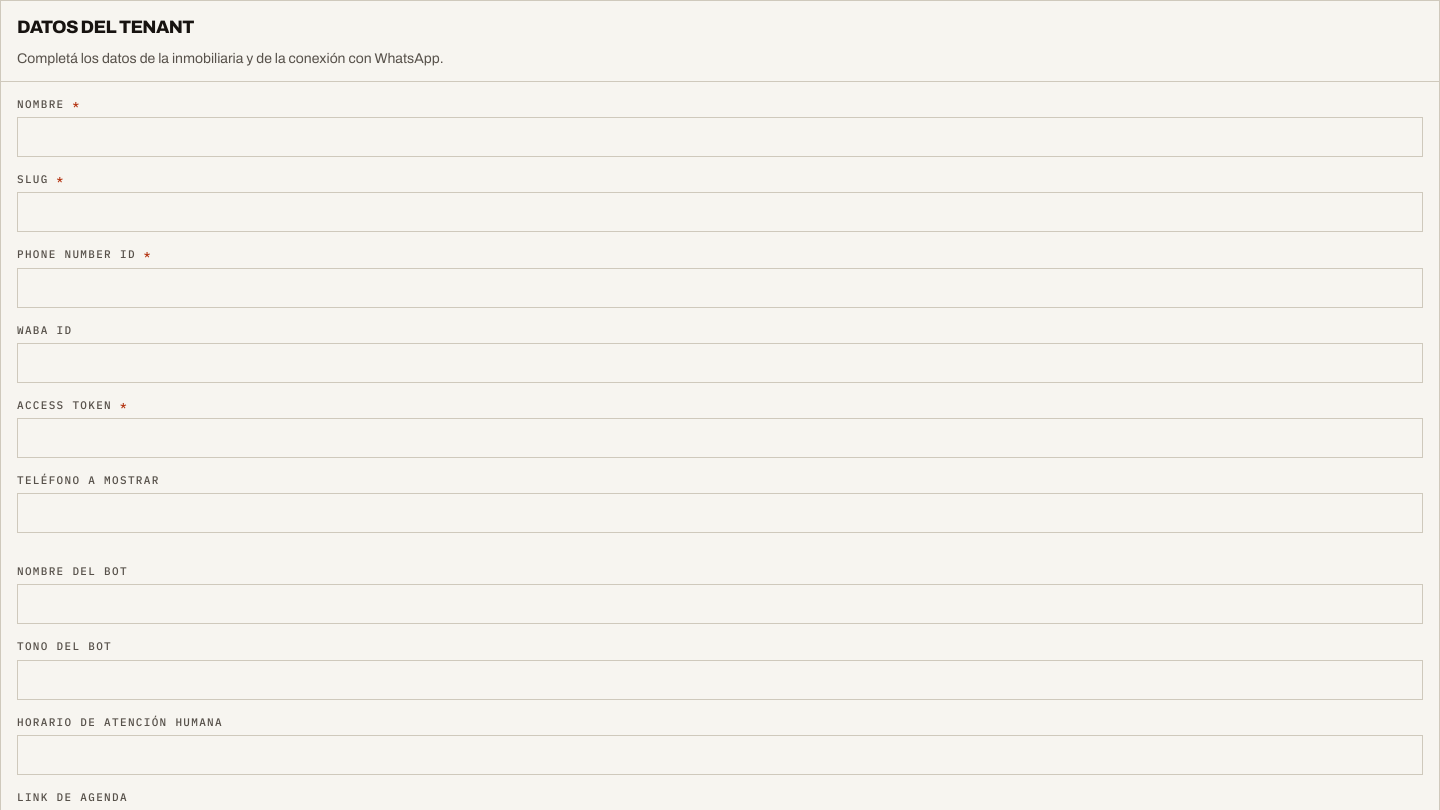
Test case: TenantCreateForm › ConflictError de slug se muestra como error de campo, sin excepción no manejada
Type "Inmobiliaria Test" into the field labelled "Nombre".
click(720, 137); type("Inmobiliaria Test")  # box x1=17 y1=117 x2=1423 y2=157
Type "inmo-test" into the field labelled "Slug".
click(720, 212); type("inmo-test")  # box x1=17 y1=192 x2=1423 y2=232
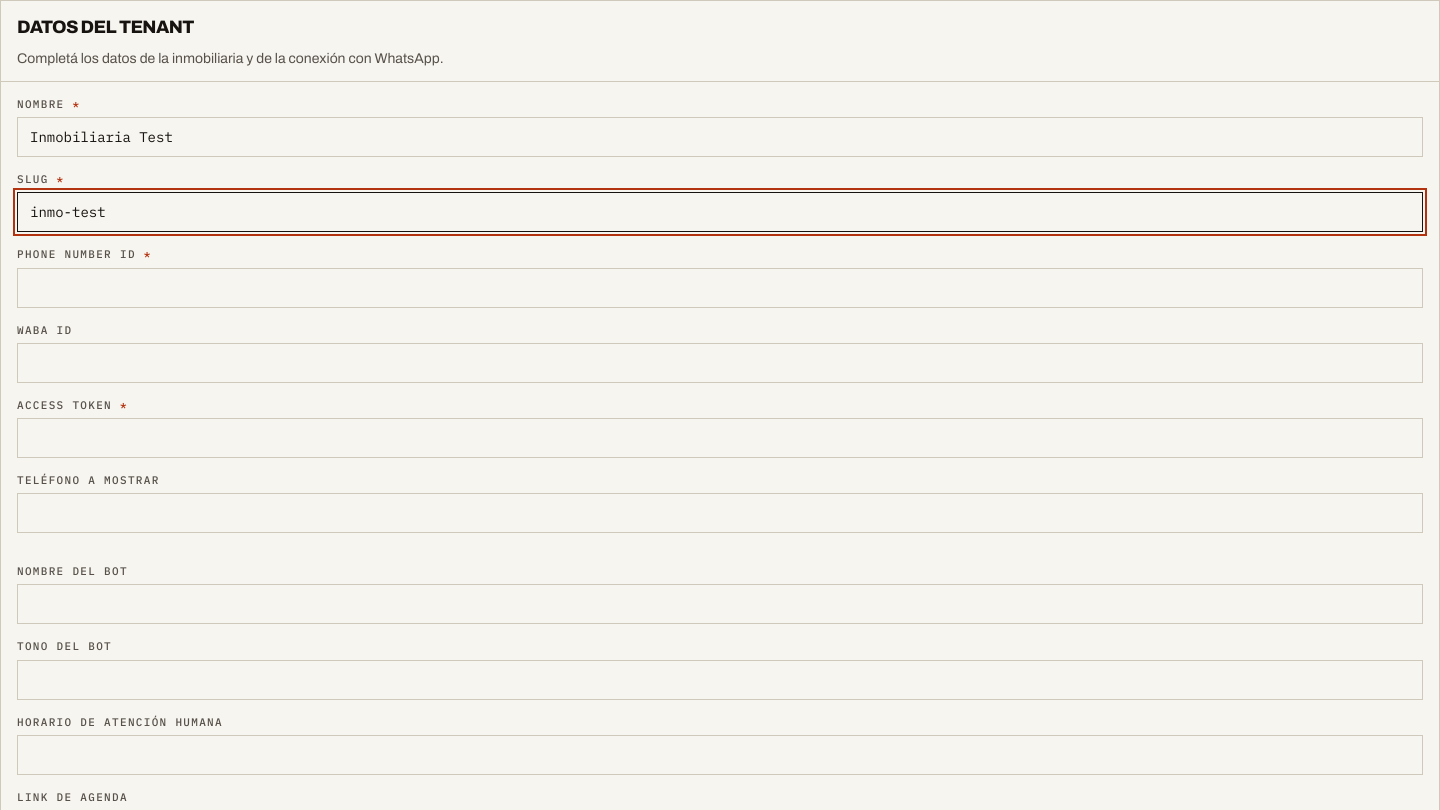
Type "123456789" into the field labelled "Phone Number ID".
click(720, 288); type("123456789")  # box x1=17 y1=268 x2=1423 y2=308
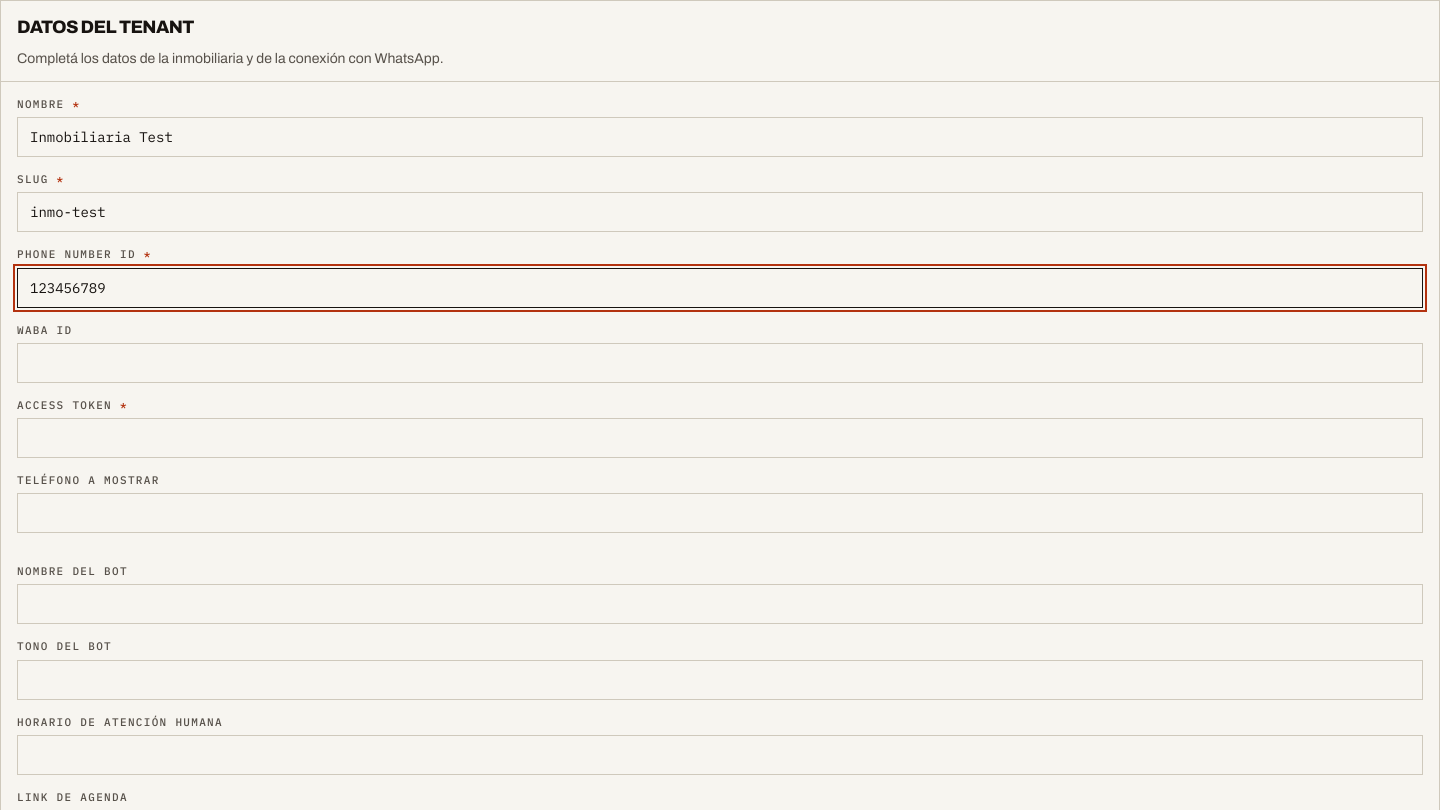
Type "secret-token" into the password field labelled "Access token".
click(720, 438); type("secret-token")  # box x1=17 y1=418 x2=1423 y2=458
(page scrolled)
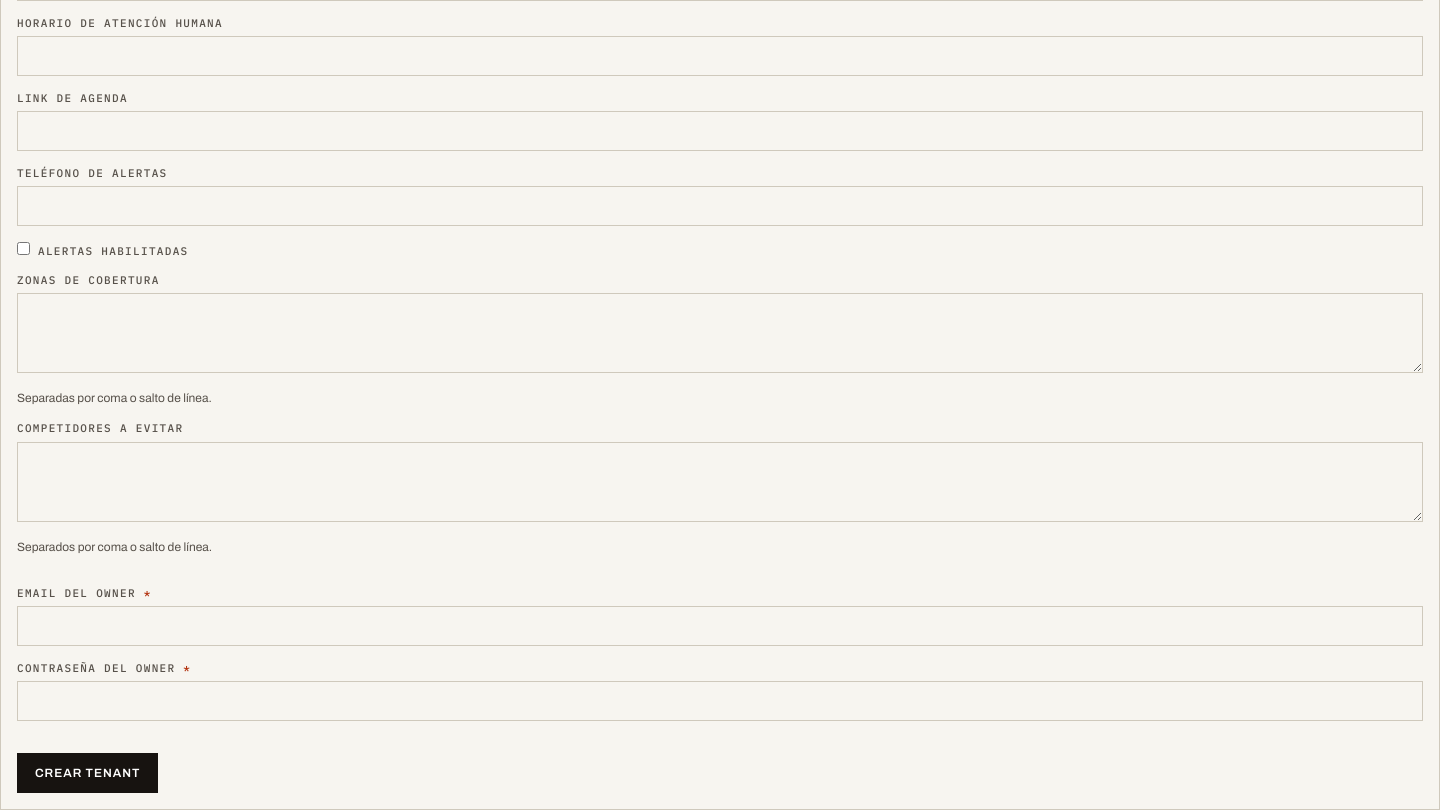
Type "owner@inmo.com" into the field labelled "Email del owner".
click(720, 626); type("owner@inmo.com")  # box x1=17 y1=606 x2=1423 y2=646
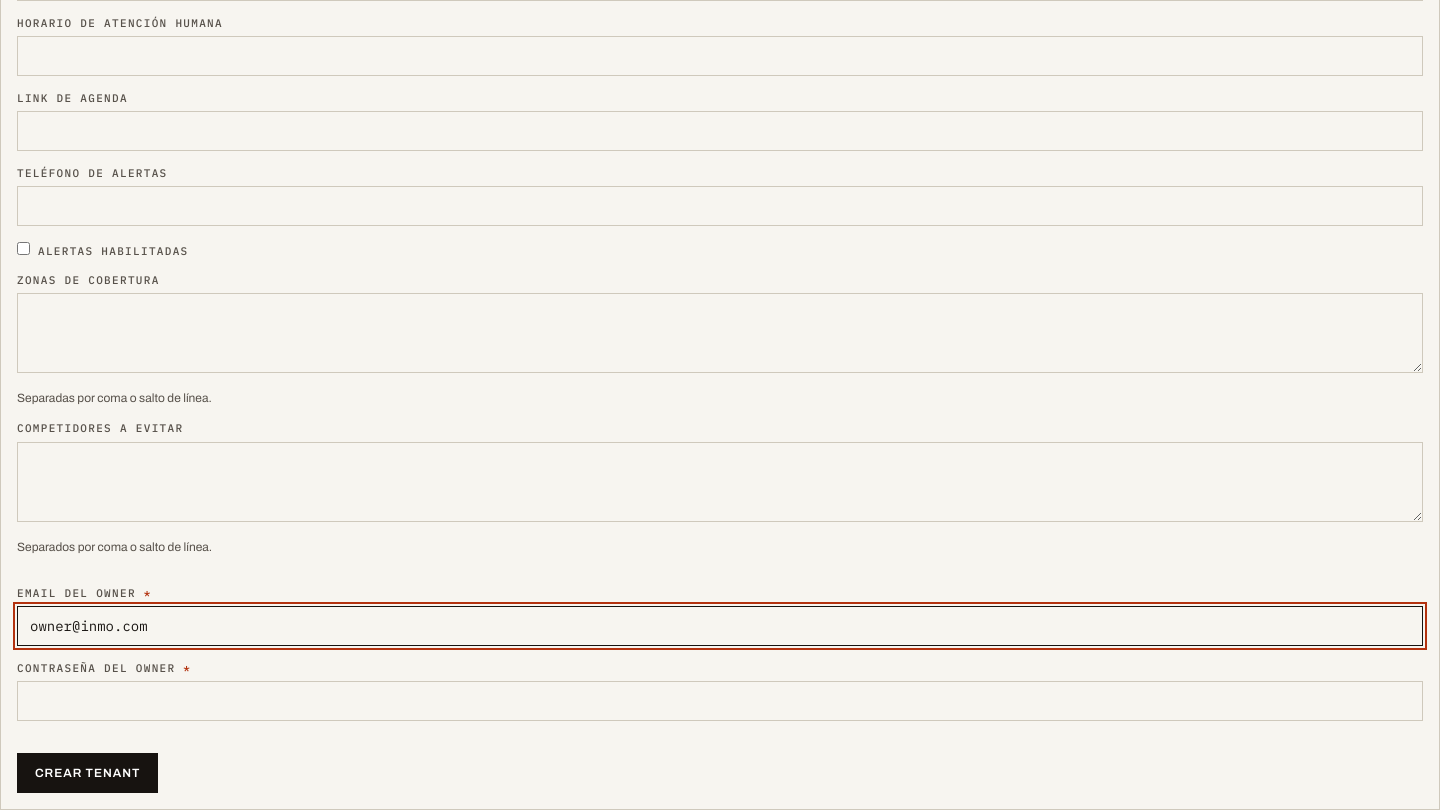
Type "password123" into the password field labelled "Contraseña del owner".
click(720, 701); type("password123")  # box x1=17 y1=681 x2=1423 y2=721
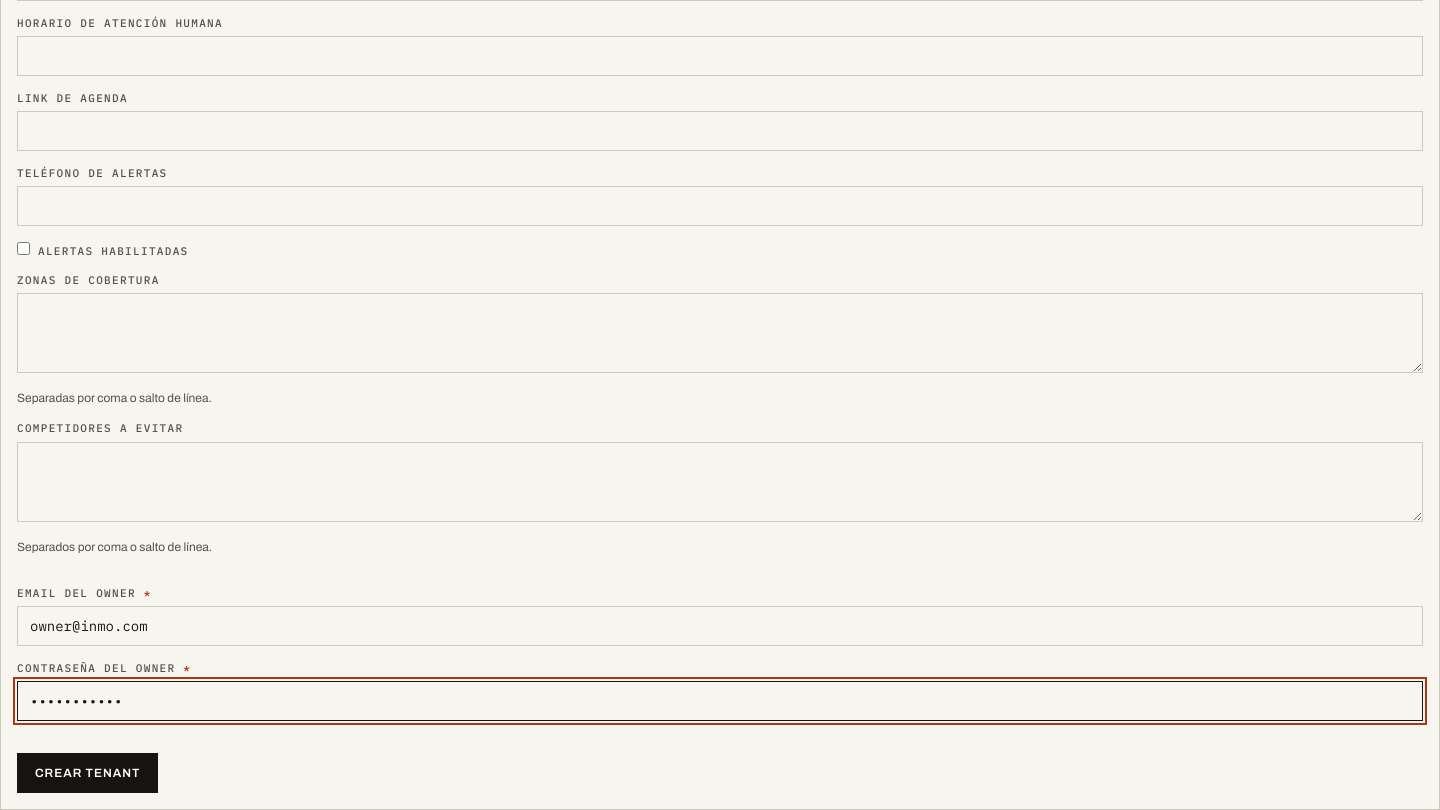
Click the button "Crear tenant".
click(88, 773)  # box x1=17 y1=753 x2=158 y2=793
(page scrolled)
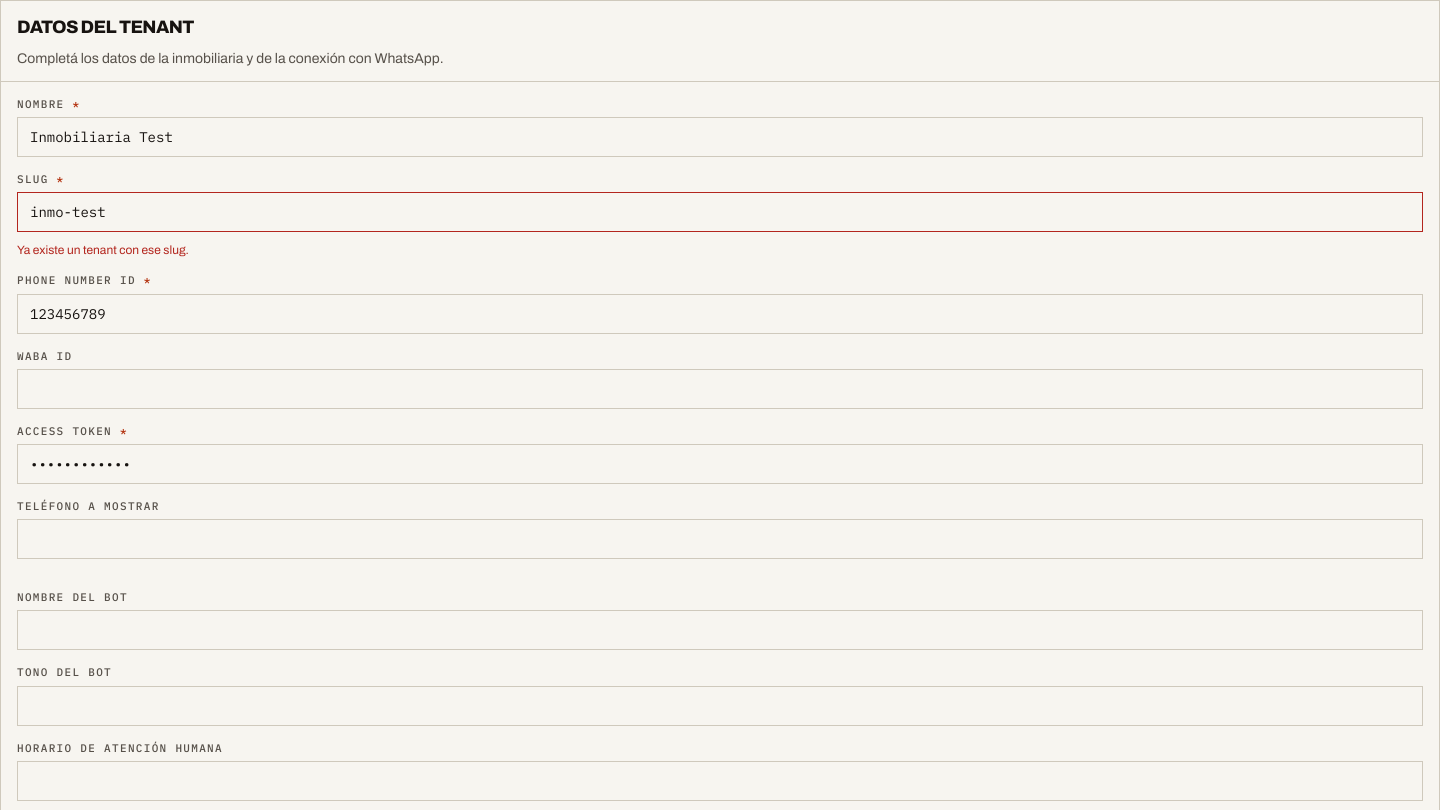
Check: the text "Ya existe un tenant con ese slug." is shown, box x1=17 y1=243 x2=189 y2=257
